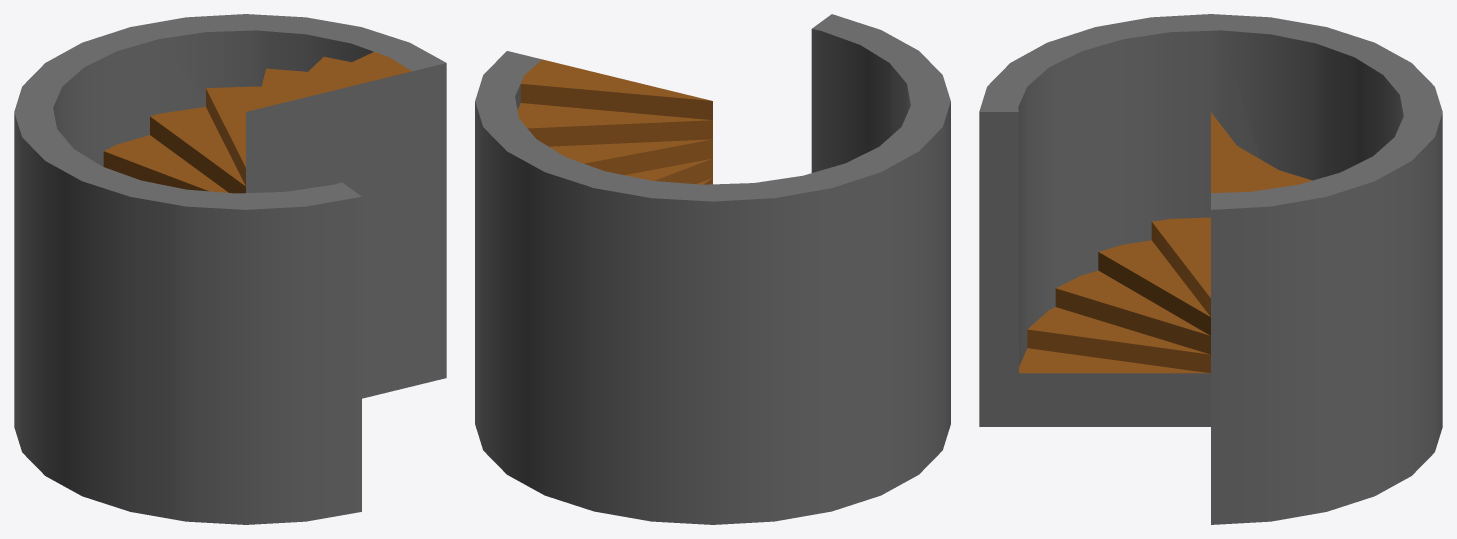
File: Dungeon_Tiles_Modular_Stairs_Spiral_Small_Timber_04.fbx
The picture shows the model from 3 angles, left to right: view 1: azimuth 30°, elevation 25°; view 2: azimuth 150°, elevation 25°; view 3: azimuth 270°, elevation 25°; orthographic projection. The views are drawn at different scales.
Parts seen in each view (by area): view 1: Dungeon_Tiles_Modular_Stairs_Spiral_Small_Timber_04; view 2: Dungeon_Tiles_Modular_Stairs_Spiral_Small_Timber_04; view 3: Dungeon_Tiles_Modular_Stairs_Spiral_Small_Timber_04.
Part boxes in pixels (left/top/right/bottom): Dungeon_Tiles_Modular_Stairs_Spiral_Small_Timber_04: left=14, top=14, right=446, bottom=524; Dungeon_Tiles_Modular_Stairs_Spiral_Small_Timber_04: left=475, top=14, right=950, bottom=524; Dungeon_Tiles_Modular_Stairs_Spiral_Small_Timber_04: left=979, top=14, right=1442, bottom=524.
Bounding box in the file's own units: 96 × 72 × 96.
